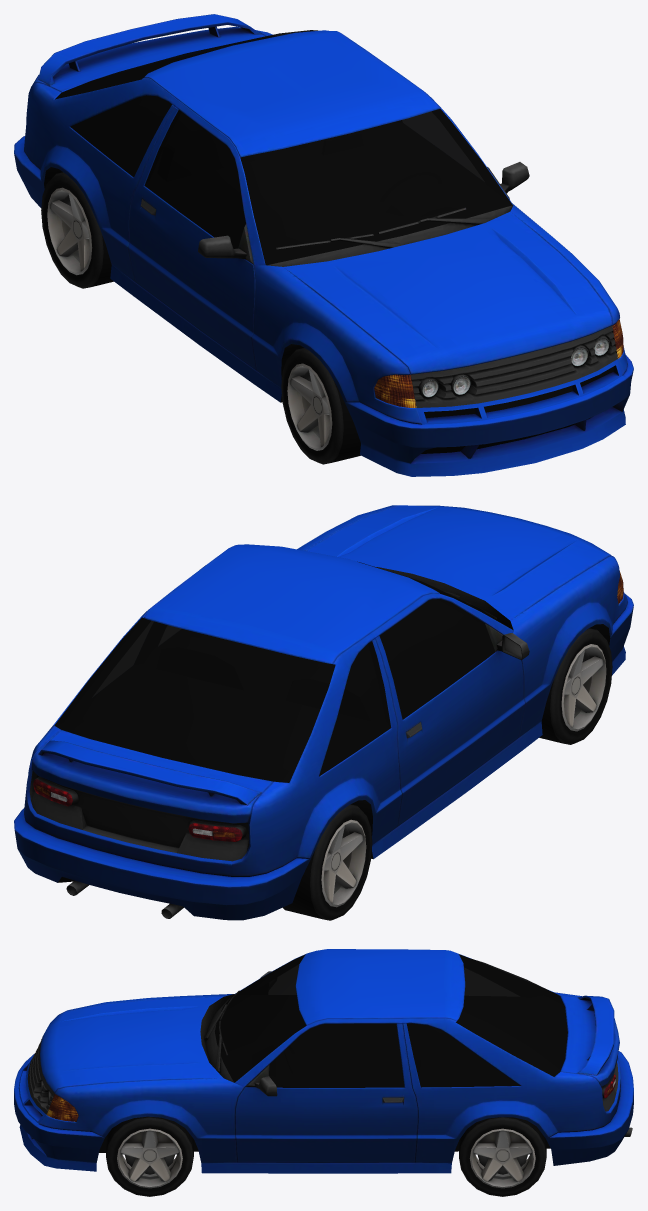
The model's file is coupe.glb.
3 views of the same model, one above another, from view 1: azimuth 30°, elevation 25°; view 2: azimuth 150°, elevation 25°; view 3: azimuth 270°, elevation 25° (orthographic). The views are drawn at different scales.
Visible parts, largest first — view 1: Coupe Body_Body_0, Coupe Body_Glass_0, Wheel_F002_Wheel_0, Wheel_F003_Wheel_0, Coupe Body_Optics_0; view 2: Coupe Body_Body_0, Coupe Body_Glass_0, Wheel_F003_Wheel_0, Wheel_F002_Wheel_0, Coupe Body_Optics_0; view 3: Coupe Body_Body_0, Coupe Body_Glass_0, Wheel_F_Wheel_0, Wheel_F001_Wheel_0, Coupe Body_Optics_0.
Boxes of the visible parts, left/top/right/bottom form: Coupe Body_Body_0: left=14, top=14, right=633, bottom=476; Coupe Body_Glass_0: left=55, top=30, right=512, bottom=265; Wheel_F002_Wheel_0: left=281, top=347, right=360, bottom=464; Wheel_F003_Wheel_0: left=41, top=172, right=113, bottom=288; Coupe Body_Optics_0: left=374, top=319, right=623, bottom=407; Coupe Body_Body_0: left=14, top=505, right=633, bottom=920; Coupe Body_Glass_0: left=54, top=561, right=507, bottom=782; Wheel_F003_Wheel_0: left=282, top=804, right=372, bottom=920; Wheel_F002_Wheel_0: left=539, top=628, right=612, bottom=744; Coupe Body_Optics_0: left=33, top=571, right=623, bottom=841; Coupe Body_Body_0: left=14, top=949, right=633, bottom=1173; Coupe Body_Glass_0: left=214, top=954, right=567, bottom=1087; Wheel_F_Wheel_0: left=106, top=1116, right=193, bottom=1196; Wheel_F001_Wheel_0: left=459, top=1117, right=546, bottom=1196; Coupe Body_Optics_0: left=46, top=1074, right=615, bottom=1121.
Bounding box in the file's own units: 1.88 × 1.28 × 4.24.
4 materials, 3 textured.
